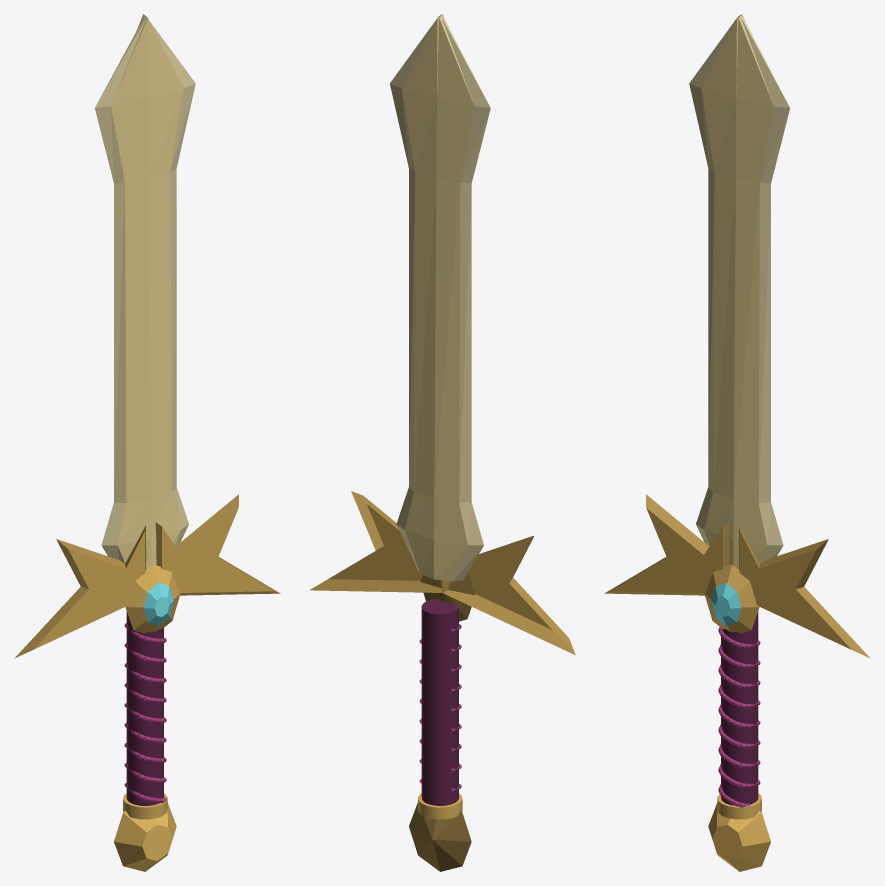
File: Light.obj
3 views of the same model, side by side, from view 1: azimuth 30°, elevation 25°; view 2: azimuth 150°, elevation 25°; view 3: azimuth 330°, elevation 25° (orthographic).
Visible parts, largest first — view 1: Light; view 2: Light; view 3: Light.
Part boxes in pixels (box(x1,y1,x2,y2)): Light: box(14, 14, 280, 871); Light: box(309, 14, 575, 871); Light: box(604, 14, 870, 871).
Bounding box in the file's own units: 14 × 42.9 × 2.54.
